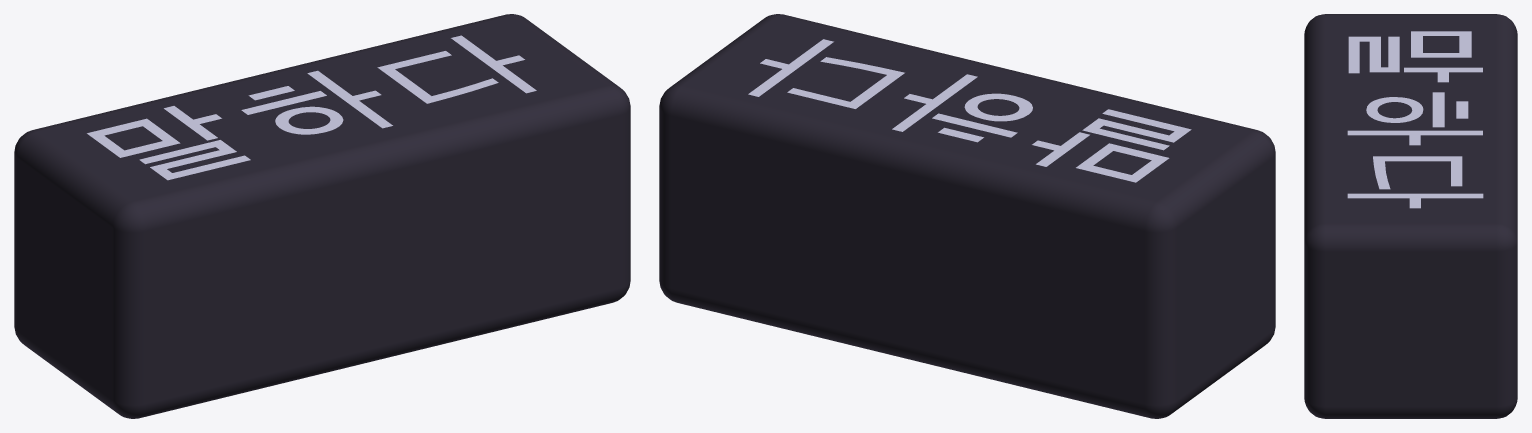
File: say.glb
3 views of the same model, side by side, from view 1: azimuth 30°, elevation 25°; view 2: azimuth 150°, elevation 25°; view 3: azimuth 270°, elevation 25° (orthographic). The views are drawn at different scales.
Visible parts, largest first — view 1: Cut, Extrude; view 2: Cut, Extrude; view 3: Cut, Extrude.
Boxes of the visible parts, x1,y1,x2,y2 form: Cut: [14, 14, 630, 418]; Extrude: [87, 35, 536, 180]; Cut: [659, 14, 1275, 418]; Extrude: [748, 39, 1191, 182]; Cut: [1304, 14, 1517, 418]; Extrude: [1347, 31, 1483, 208].
Size of the model in its own units: 5 by 2 by 2.
